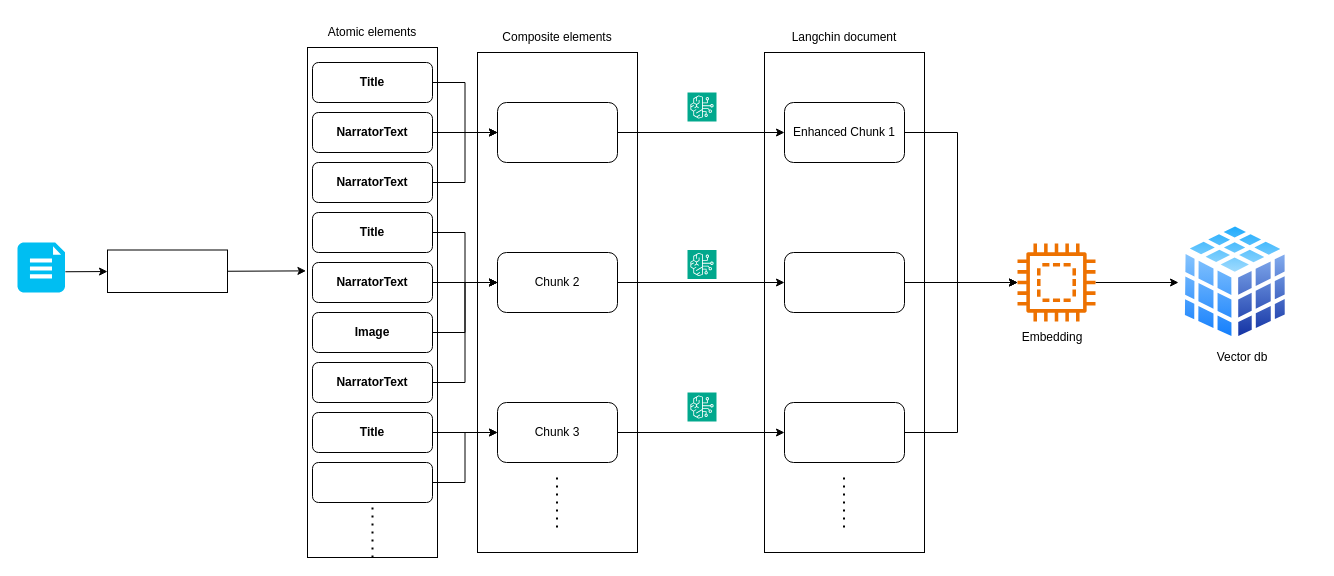
Some shapes in this 1334 by 576 pixel diagram are drawn without their labels. Each missing label, with the box of its shape:
Chunk 1: (496, 102, 618, 162)
Enhanced Chunk 2: (784, 252, 904, 312)
Enhanced Chunk 3: (784, 402, 904, 462)
Table: (312, 462, 432, 502)
unstructured io api: (106, 249, 228, 292)
